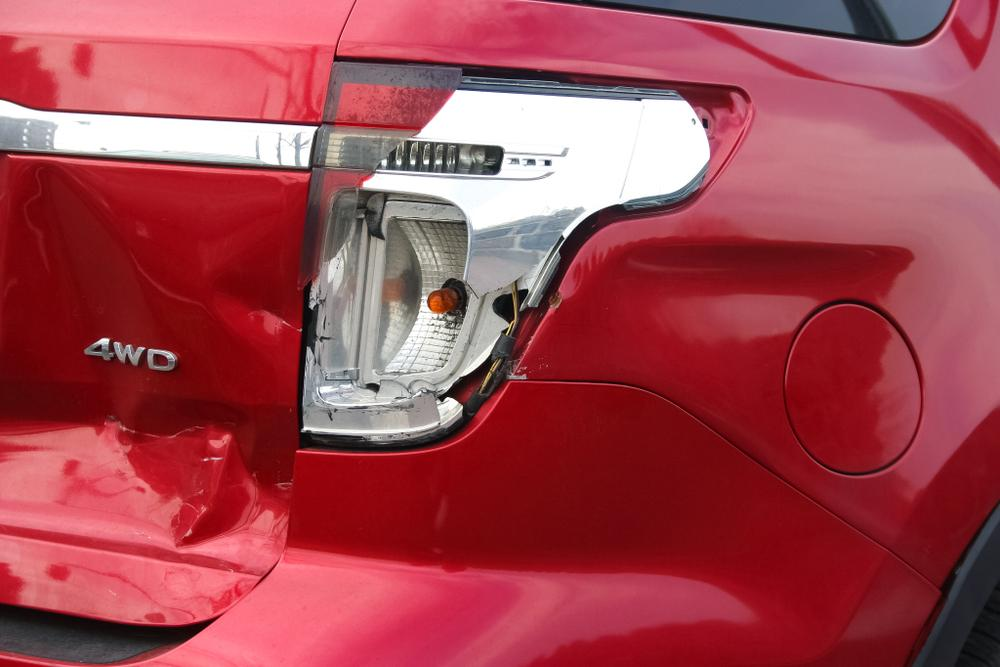dent: (5, 160, 299, 564), (613, 235, 914, 343)
lamp broken: (297, 56, 744, 452)
